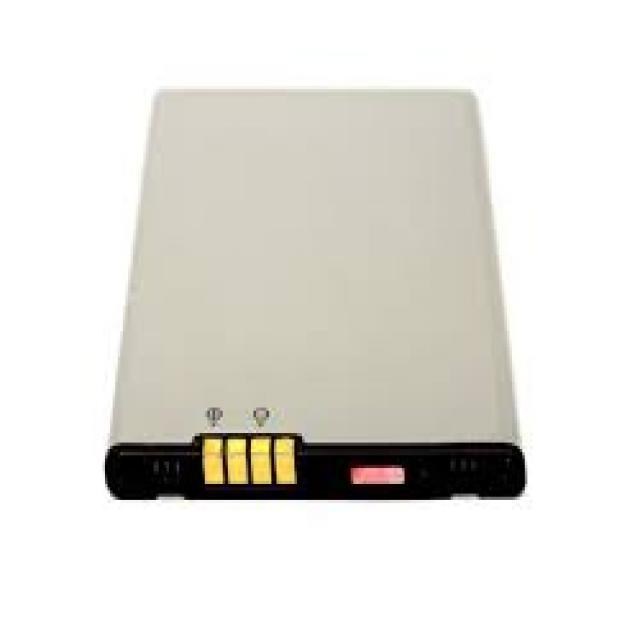battery: (107, 89, 527, 506)
